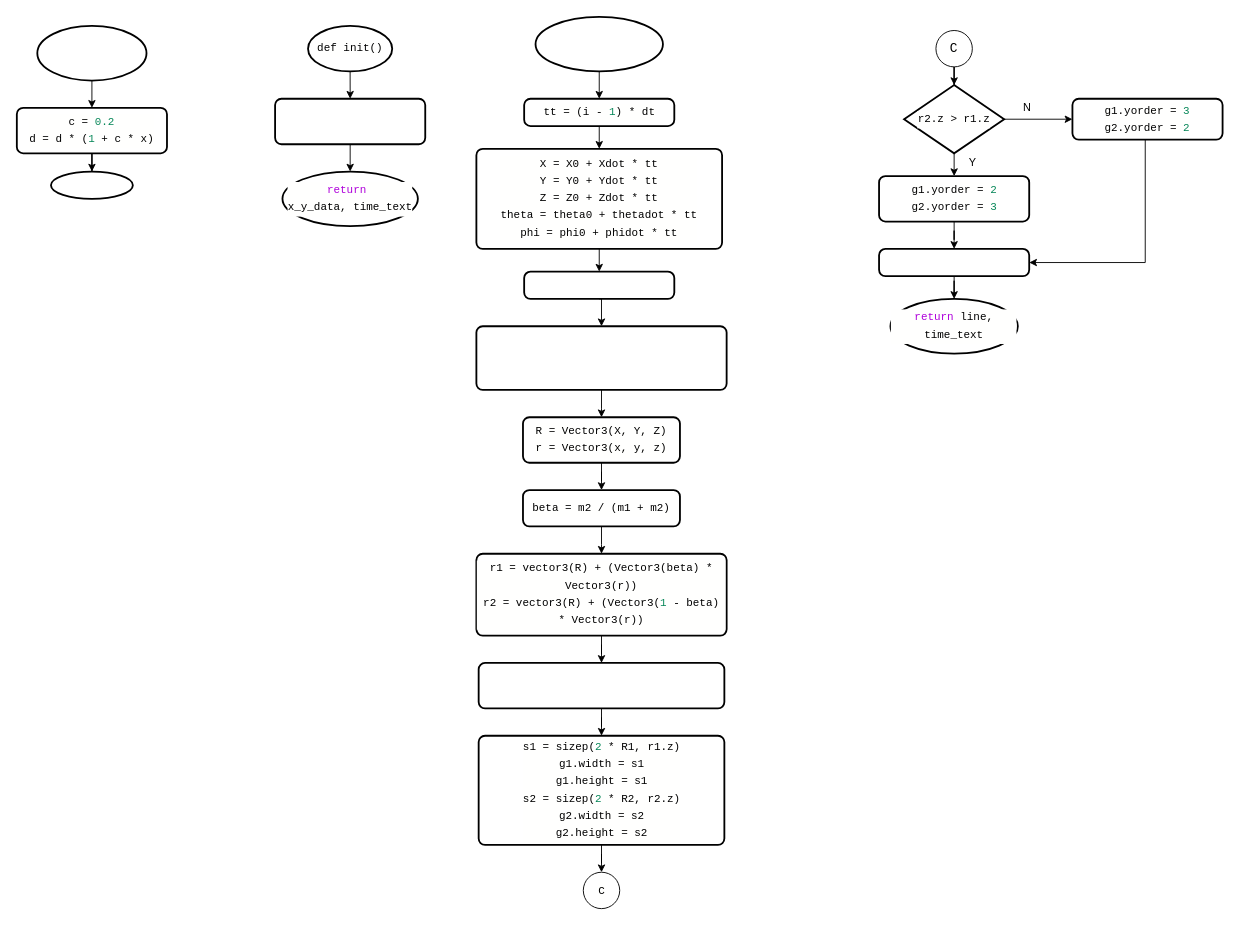
Image size: 1239x925. Some labels were removed from this diagram. Here are the shapes that lost their labels. From the top down, the centre of each, then its label:
At pixel 91 53: "def sizep ( d , x)".
At pixel 598 43: "def animate ( i )".
At pixel 350 121: "x_y_data([],[]) time_text('')".
At pixel 91 184: "return d".
At pixel 954 262: "time_text(% tt)".
At pixel 599 284: "l = r0.length()".
At pixel 601 357: "x = l * sin(theta) * sin(phi) y = l * cos(theta) z = l * sin(theta) * cos(phi)".
At pixel 601 685: "g1.center = r1.x, r1.y g2.center = r2.x, r2.y".
